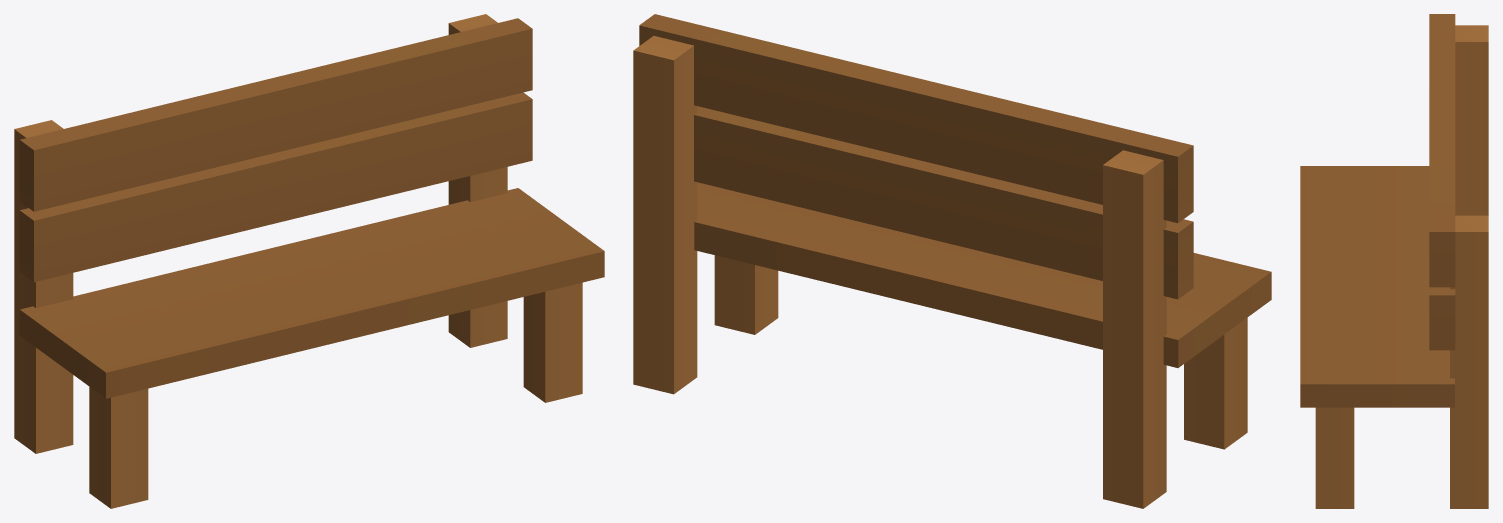
Rendered from Bench_01.fbx.
The picture shows the model from 3 angles, left to right: view 1: azimuth 30°, elevation 25°; view 2: azimuth 150°, elevation 25°; view 3: azimuth 270°, elevation 25°; orthographic projection. The views are drawn at different scales.
Visible parts, largest first — view 1: Bench_01, Bench_01.004, Bench_01.001, Bench_01.003, Bench_01.002; view 2: Bench_01.003, Bench_01.004, Bench_01, Bench_01.001, Bench_01.002; view 3: Bench_01, Bench_01.003, Bench_01.004, Bench_01.002, Bench_01.001.
Part boxes in pixels (x1=…): Bench_01: x1=19, y1=188, x2=604, y2=398; Bench_01.004: x1=19, y1=18, x2=532, y2=211; Bench_01.001: x1=19, y1=92, x2=532, y2=282; Bench_01.003: x1=14, y1=14, x2=507, y2=453; Bench_01.002: x1=89, y1=282, x2=582, y2=508; Bench_01.003: x1=633, y1=36, x2=1166, y2=508; Bench_01.004: x1=639, y1=14, x2=1193, y2=223; Bench_01: x1=694, y1=182, x2=1271, y2=367; Bench_01.001: x1=694, y1=106, x2=1193, y2=299; Bench_01.002: x1=714, y1=255, x2=1247, y2=449; Bench_01: x1=1300, y1=166, x2=1454, y2=407; Bench_01.003: x1=1450, y1=25, x2=1488, y2=508; Bench_01.004: x1=1429, y1=14, x2=1455, y2=287; Bench_01.002: x1=1315, y1=407, x2=1354, y2=508; Bench_01.001: x1=1429, y1=287, x2=1455, y2=350.
Size of the model in its own units: 2 by 1.21 by 0.731.
